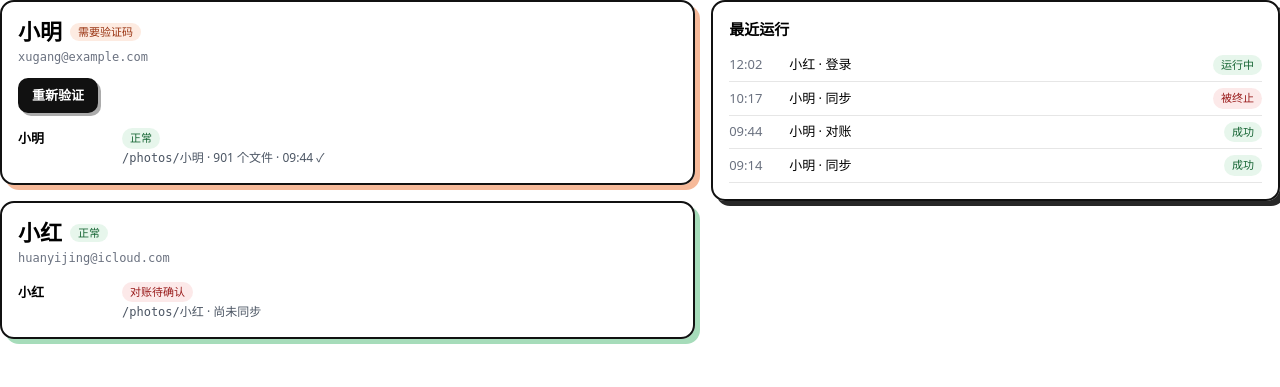
AccountCard 2FA flow › 重新验证 whose login finishes ok without a code shows 会话仍有效 and no input
The image size is (1280, 387).
Step 1. Click the button "重新验证" → (58, 95), box [18,78,98,113]
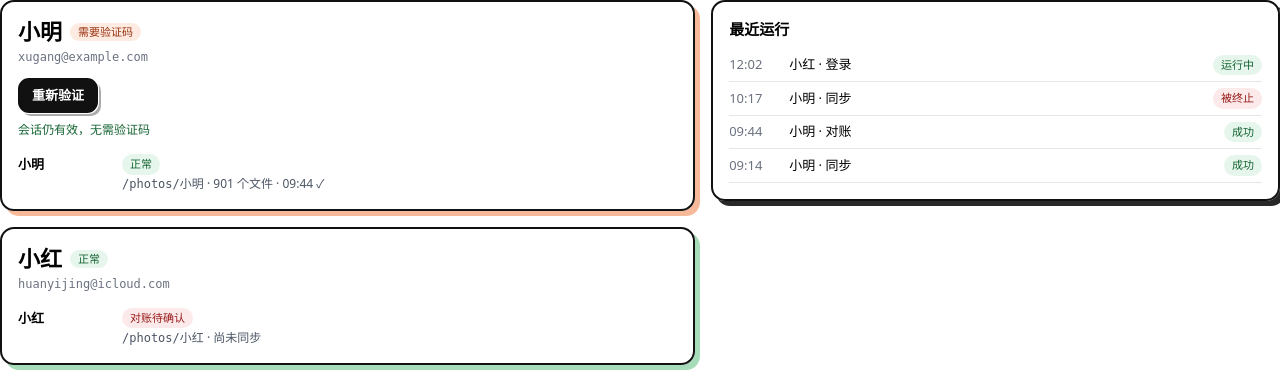
Expected: the message reads "会话仍有效，无需验证码", [18,121,150,138]
